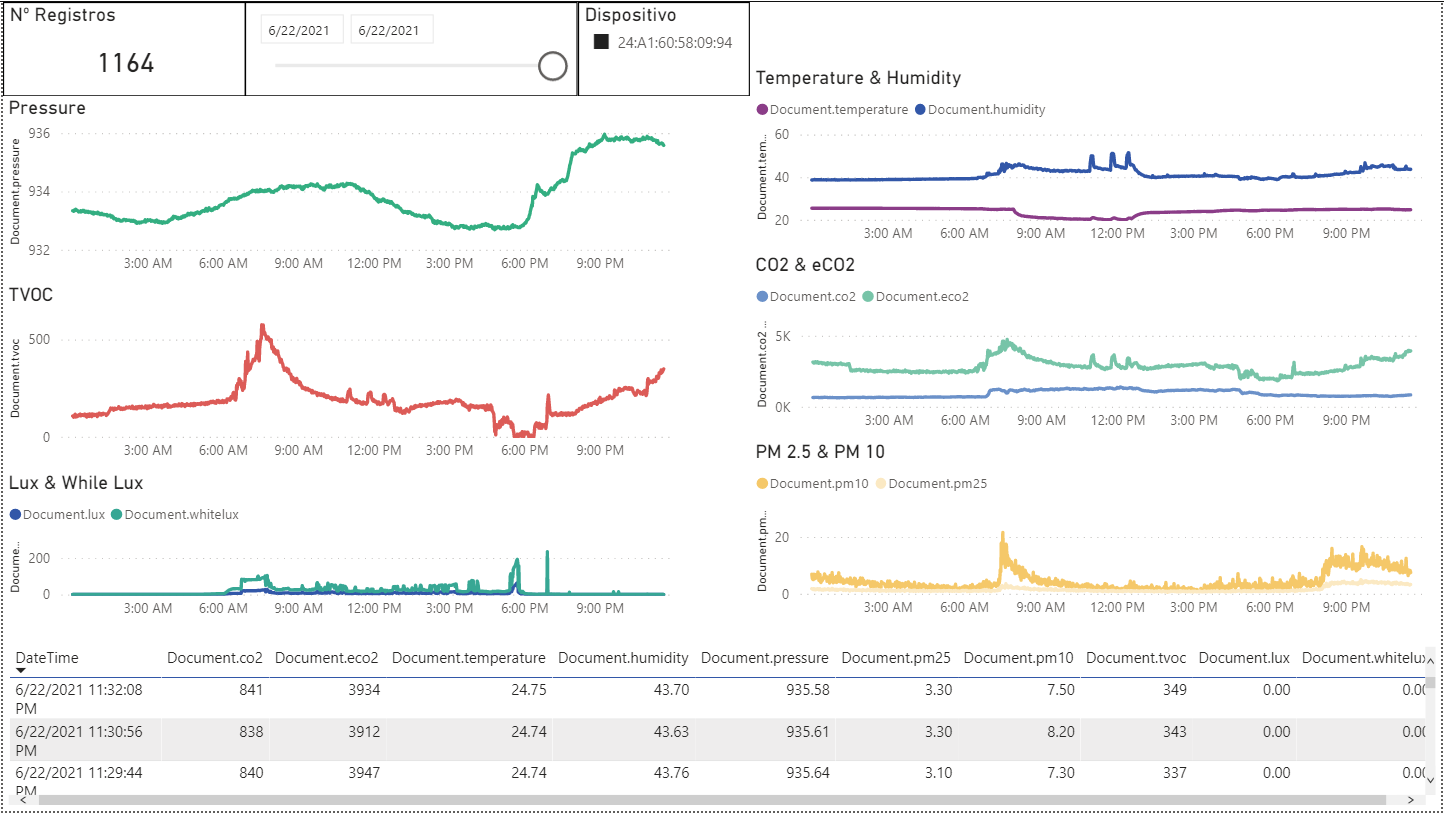

The page's visual inventory and layout, read from the dashboard file:
{"tool":"powerbi","page":{"name":"Dashboard","canvas":[1280,720],"ordinal":0},"visuals":[{"type":"card","title":"Nº Registros","fields":{"Values":["CountNonNull(Query1.Document.temperature)"]},"box":[0,0,215.8,83.8],"z":0},{"type":"slicer","fields":{"Values":["Query1.DateTime"]},"box":[215.8,0,296.2,83.8],"z":1000},{"type":"slicer","title":"Dispositivo","fields":{"Values":["Query1.Document.deviceid"]},"box":[512,0,153.2,83.8],"z":2000},{"type":"lineChart","title":"Temperature & Humidity","fields":{"Y":["Sum(Query1.Document.temperature)","Sum(Query1.Document.humidity)"],"Category":["Query1.DateTime"]},"box":[665.2,57,614.8,166.6],"z":3000},{"type":"lineChart","title":"CO2 & eCO2","fields":{"Category":["Query1.DateTime"],"Y":["Sum(Query1.Document.co2)","Sum(Query1.Document.eco2)"]},"box":[665.2,223.6,614.8,166.6],"z":4000},{"type":"lineChart","title":"PM 2.5 & PM 10","fields":{"Category":["Query1.DateTime"],"Y":["Sum(Query1.Document.pm10)","Sum(Query1.Document.pm25)"]},"box":[665.2,390.1,614.8,166.6],"z":5000},{"type":"lineChart","title":"TVOC","fields":{"Y":["Sum(Query1.Document.tvoc)"],"Category":["Query1.DateTime"]},"box":[0,250.4,614.8,166.6],"z":6000},{"type":"lineChart","title":"Pressure","fields":{"Category":["Query1.DateTime"],"Y":["Sum(Query1.Document.pressure)"]},"box":[0,83.8,614.8,166.6],"z":7000},{"type":"tableEx","fields":{"Values":["Query1.DateTime","Sum(Query1.Document.co2)","Sum(Query1.Document.eco2)","Sum(Query1.Document.temperature)","Sum(Query1.Document.humidity)","Sum(Query1.Document.pressure)","Sum(Query1.Document.pm25)","Sum(Query1.Document.pm10)","Sum(Query1.Document.tvoc)","Sum(Query1.Document.lux)","Sum(Query1.Document.whitelux)"]},"box":[0,569,1280,150.9],"z":8000},{"type":"lineChart","title":"Lux & While Lux","fields":{"Category":["Query1.DateTime"],"Y":["Sum(Query1.Document.lux)","Sum(Query1.Document.whitelux)"]},"box":[0,417,614.8,139.7],"z":9000}]}

Visuals, with their boxes in screenshot pixels (x1, y1, x2, y2), scaled from the page's 1280x720 canvas onto the 1444x813 screenshot:
"Nº Registros" card: detection(0, 0, 243, 95)
slicer - Query1.DateTime: detection(243, 0, 578, 95)
"Dispositivo" slicer: detection(578, 0, 750, 95)
"Temperature & Humidity" lineChart: detection(750, 64, 1443, 252)
"CO2 & eCO2" lineChart: detection(750, 252, 1443, 441)
"PM 2.5 & PM 10" lineChart: detection(750, 440, 1443, 629)
"TVOC" lineChart: detection(0, 283, 694, 471)
"Pressure" lineChart: detection(0, 95, 694, 283)
tableEx - Query1.DateTime x Sum(Query1.Document.co2): detection(0, 642, 1443, 812)
"Lux & While Lux" lineChart: detection(0, 471, 694, 629)
